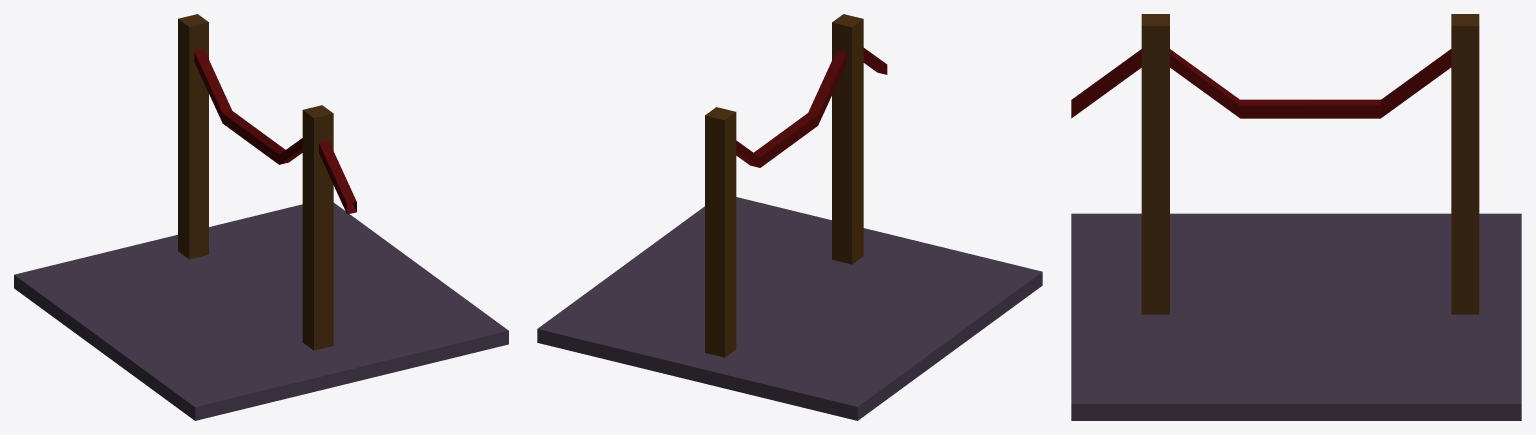
The model's file is decoration_redRope1.dae.
3 renders of one model, left to right at view 1: azimuth 30°, elevation 25°; view 2: azimuth 150°, elevation 25°; view 3: azimuth 270°, elevation 25°, orthographic. The views are drawn at different scales.
Visible parts, largest first — view 1: decoration_redRope1_MSH; view 2: decoration_redRope1_MSH; view 3: decoration_redRope1_MSH.
Part boxes in pixels (box(x1,y1,x2,y2)): decoration_redRope1_MSH: box(14, 14, 508, 420); decoration_redRope1_MSH: box(537, 14, 1042, 420); decoration_redRope1_MSH: box(1071, 14, 1521, 420).
Bounding box in the file's own units: 1 × 0.75 × 1.
